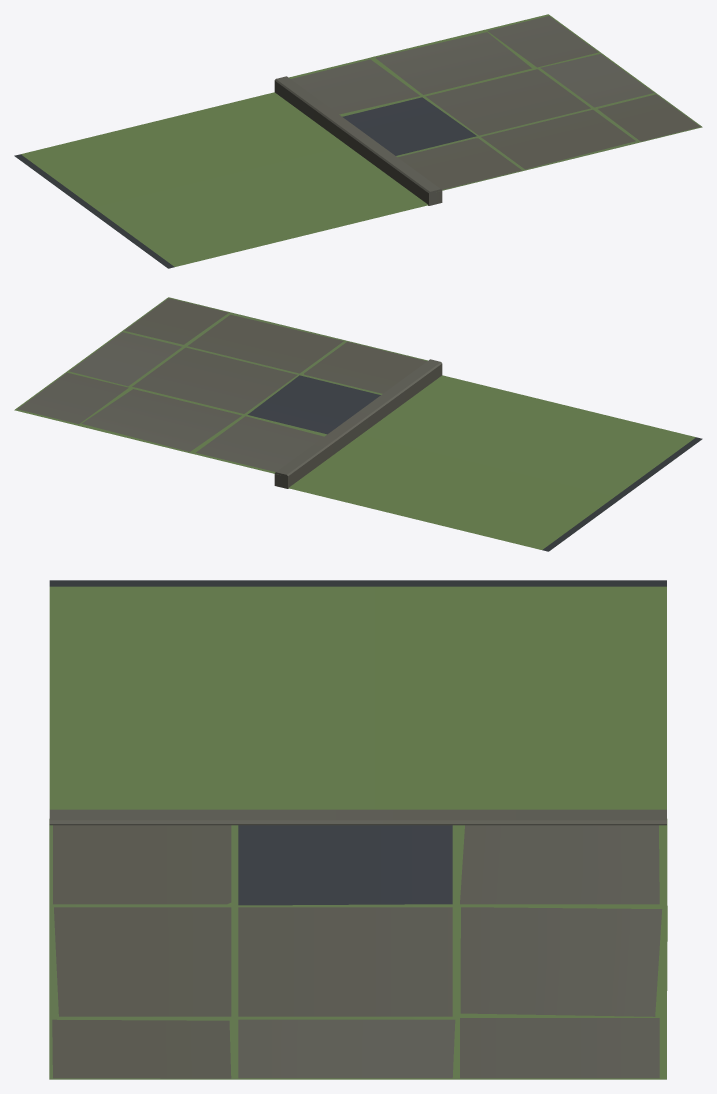
File: Road_05.fbx
The picture shows the model from 3 angles, top to bottom: view 1: azimuth 30°, elevation 25°; view 2: azimuth 150°, elevation 25°; view 3: azimuth 270°, elevation 25°; orthographic projection. The views are drawn at different scales.
Parts seen in each view (by area): view 1: Road_05; view 2: Road_05; view 3: Road_05.
Part boxes in pixels (bbox=[...]): Road_05: bbox=[14, 14, 702, 268]; Road_05: bbox=[14, 297, 702, 551]; Road_05: bbox=[49, 580, 667, 1079].
Bounding box in the file's own units: 6 × 0.15 × 3.01.
